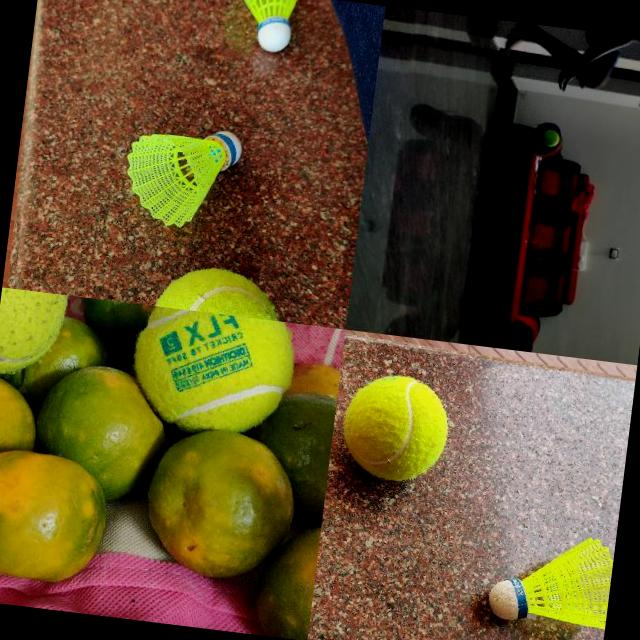Tennis Ball: (158, 308, 300, 437), (338, 368, 454, 484), (152, 260, 288, 320), (0, 287, 69, 382), (541, 128, 561, 148)
